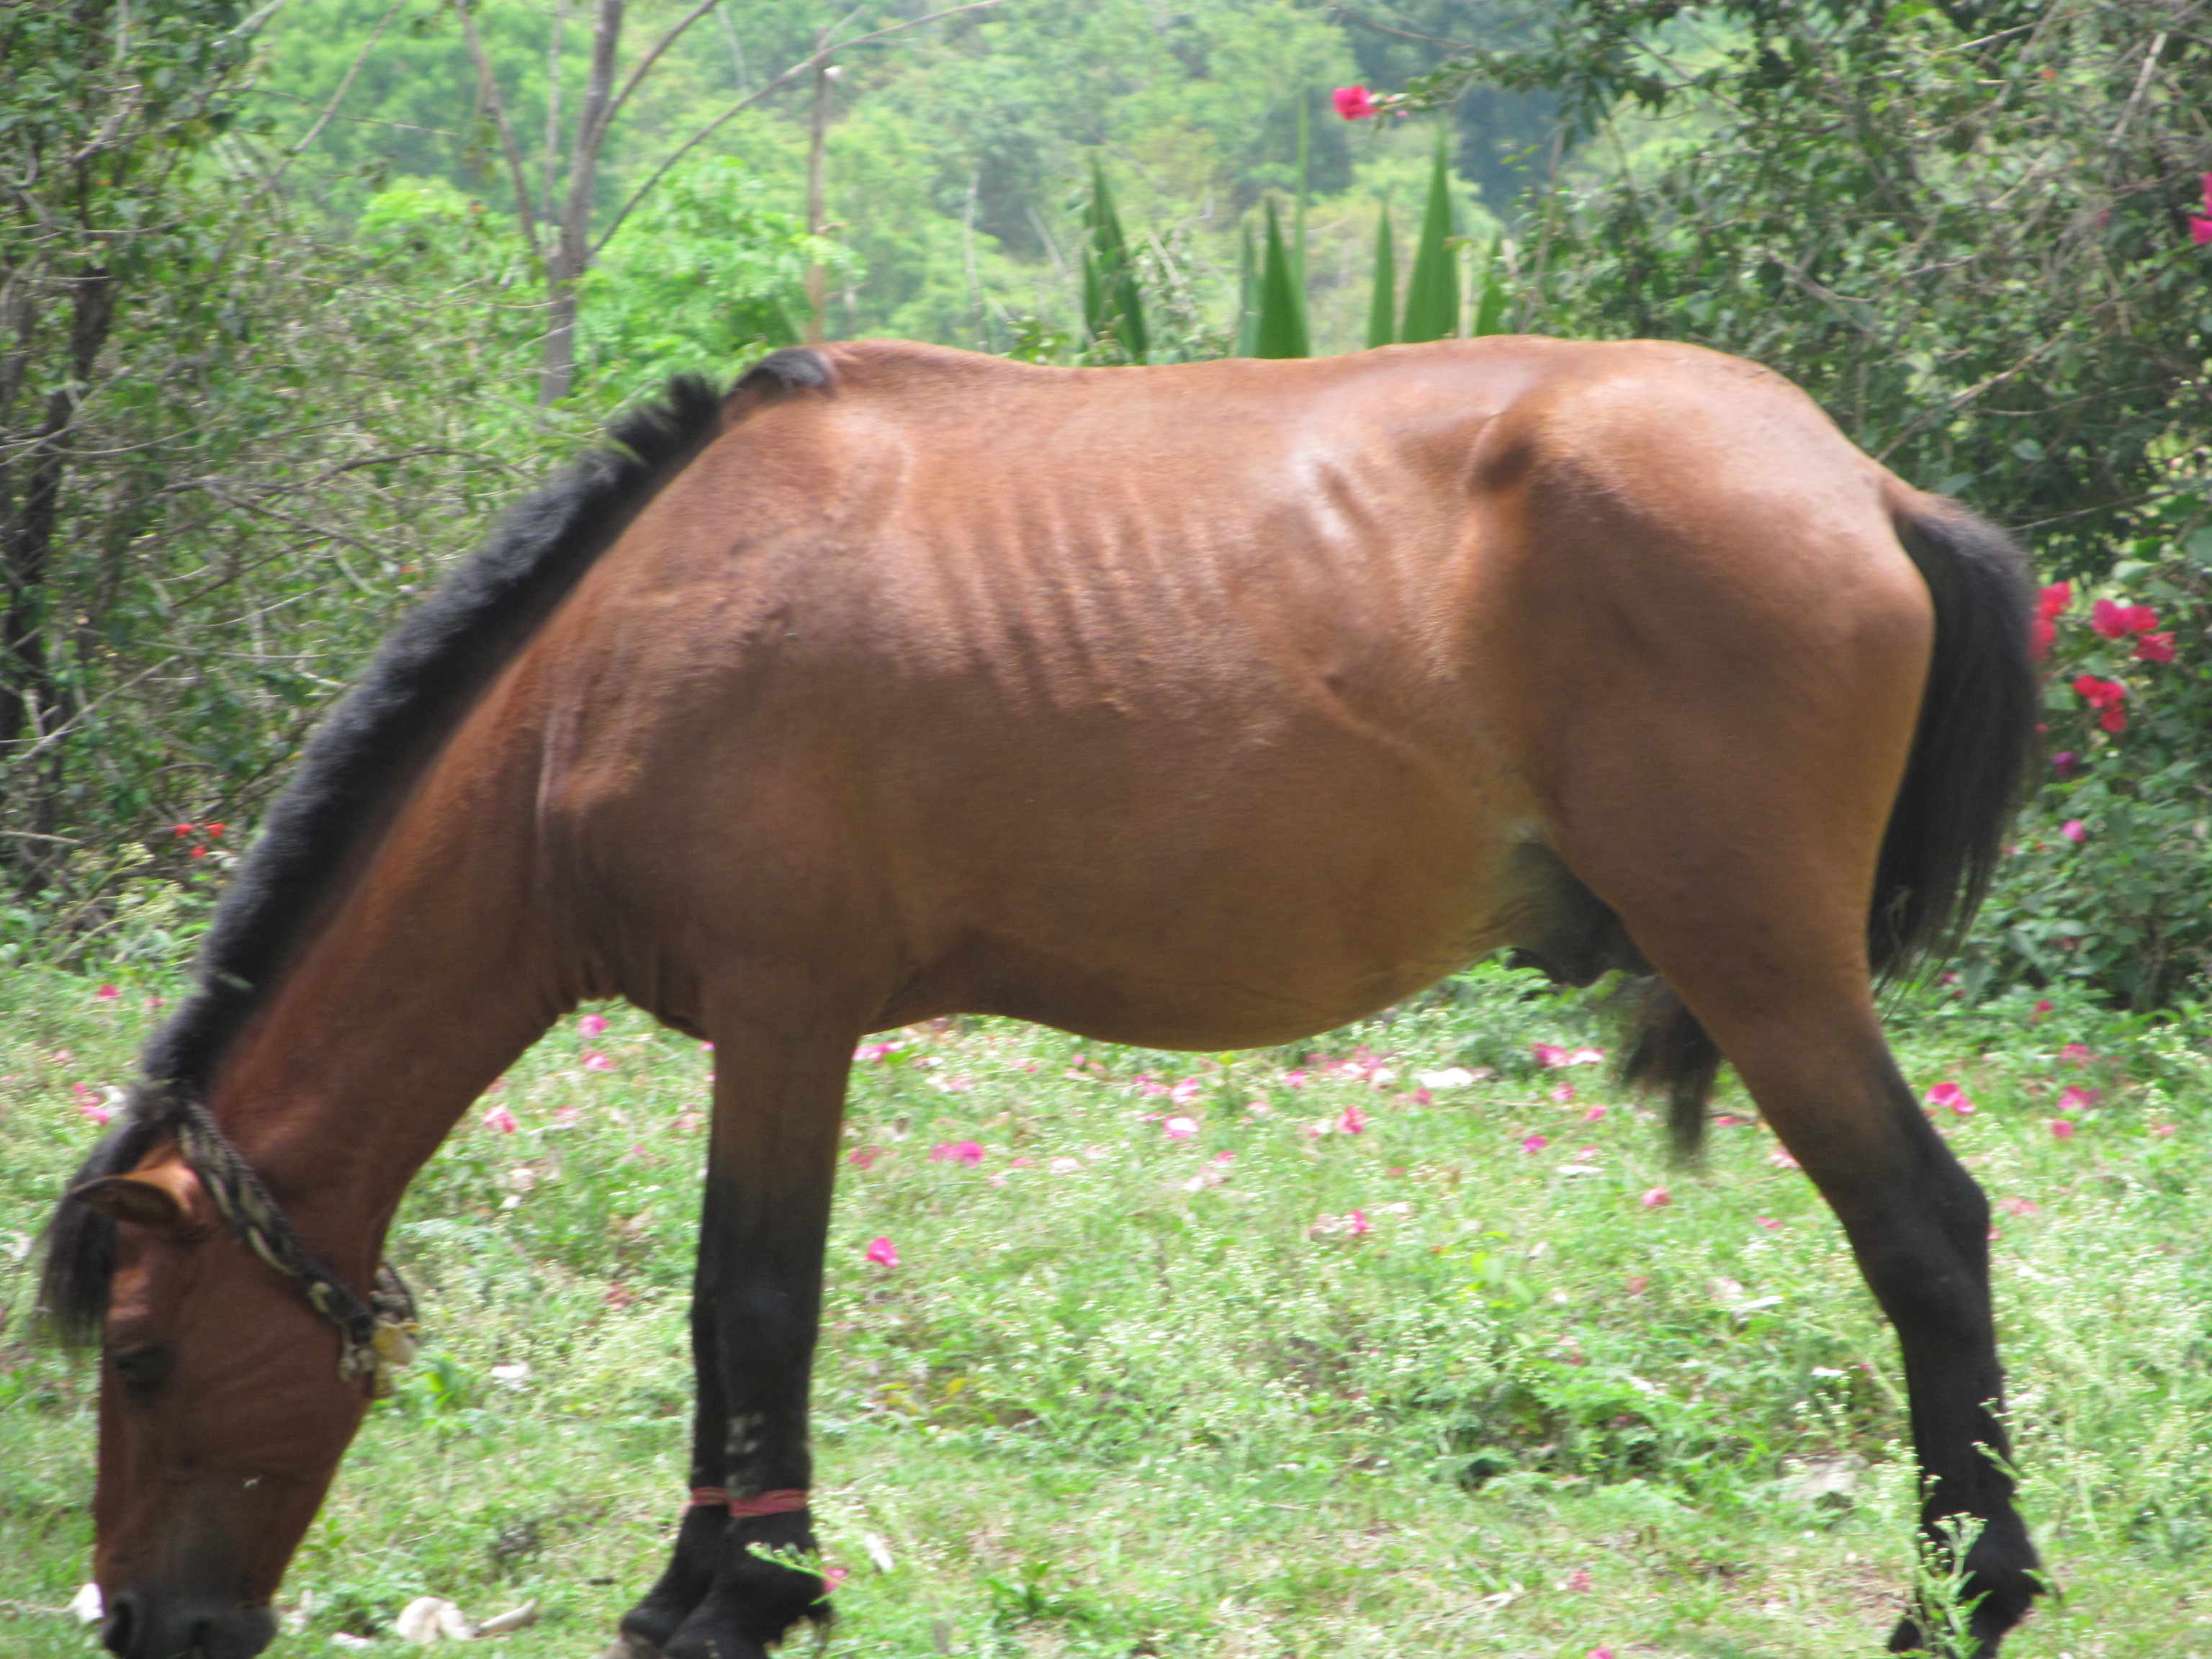horse: (47, 303, 2121, 1659)
